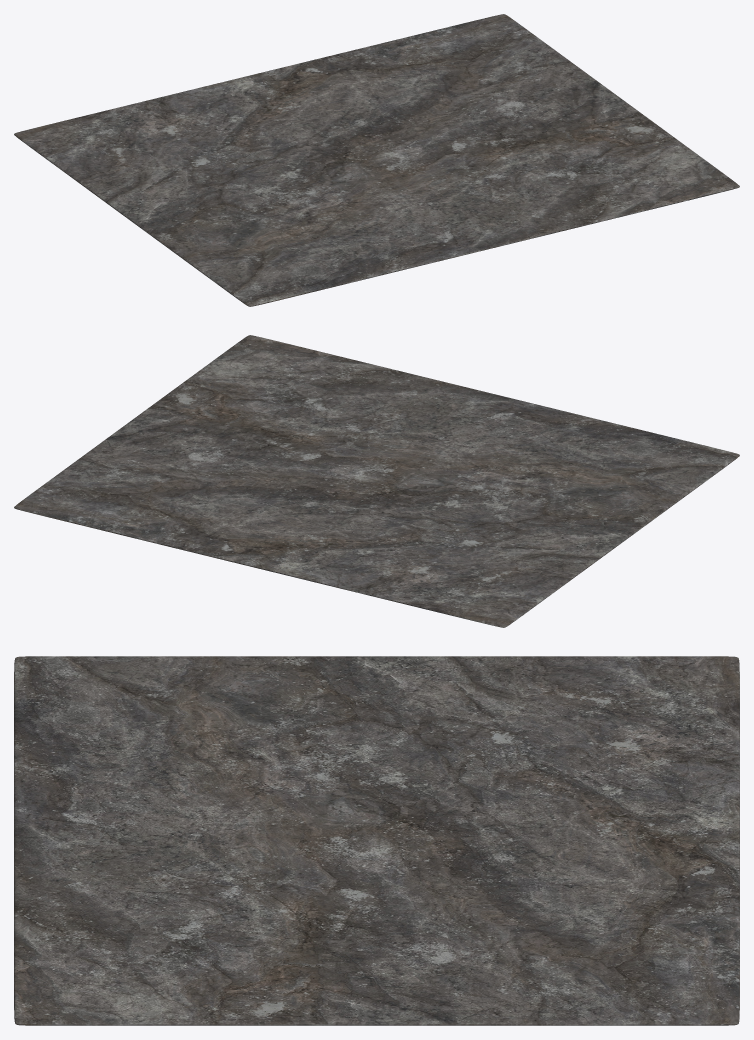
The model's file is carpet.obj.
3 views of the same model, one above another, from view 1: azimuth 30°, elevation 25°; view 2: azimuth 150°, elevation 25°; view 3: azimuth 270°, elevation 25° (orthographic). The views are drawn at different scales.
Parts seen in each view (by area): view 1: rug; view 2: rug; view 3: rug.
Boxes of the visible parts, box(x1,y1,x2,y2) form: rug: box(14, 14, 739, 306); rug: box(14, 335, 739, 627); rug: box(14, 656, 739, 1025).
Size of the model in its own units: 5.99 by 0.03 by 4.99.
